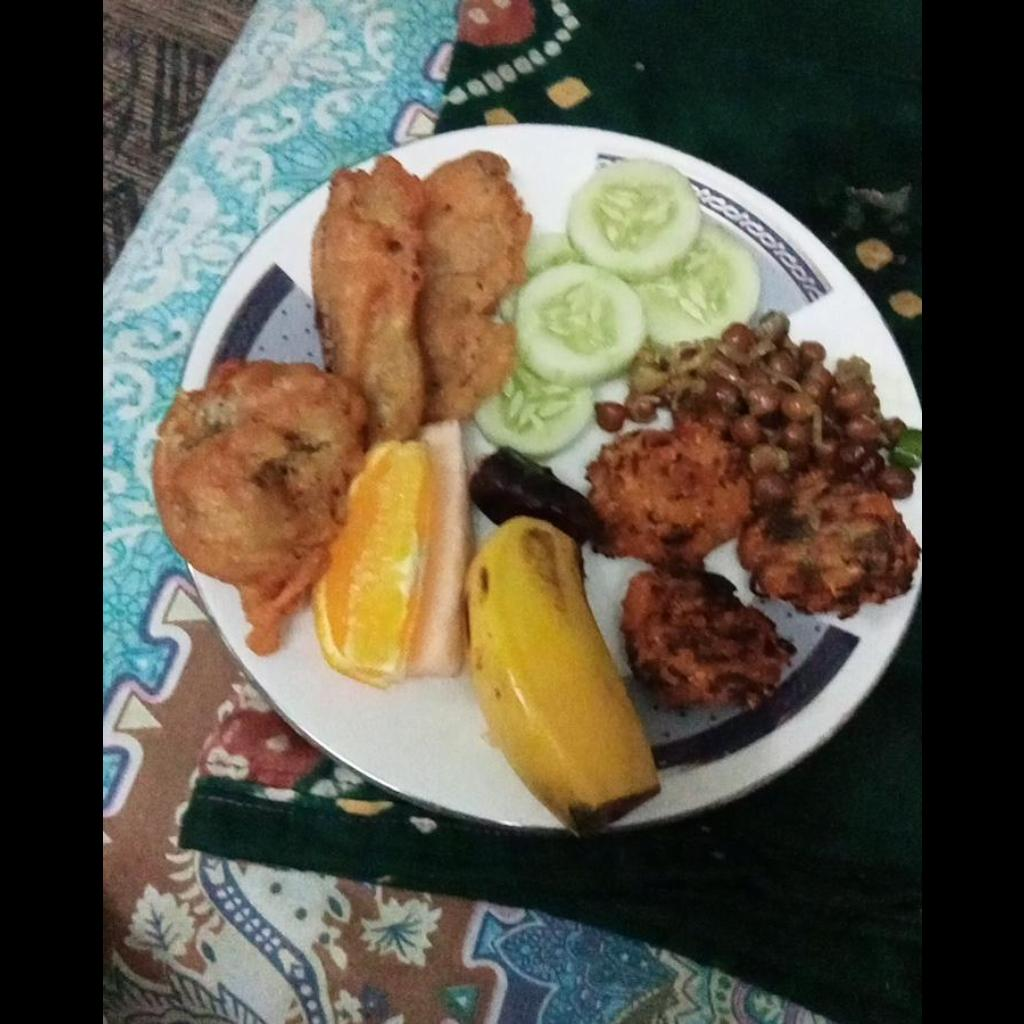banana: (464, 516, 660, 820)
beguni: (307, 149, 529, 435)
chola: (589, 316, 916, 484)
chop-alu: (151, 359, 365, 652)
cucumber: (474, 166, 756, 454)
dates: (471, 449, 607, 539)
orange: (317, 443, 427, 679)
peyaju: (583, 430, 920, 708)
